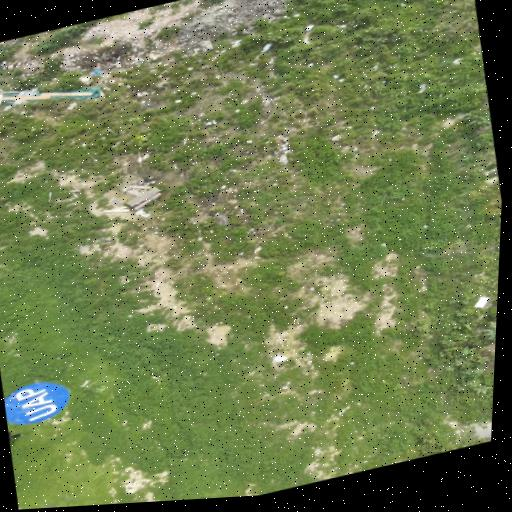person: (9, 433, 21, 440)
uap: (4, 381, 69, 423)
